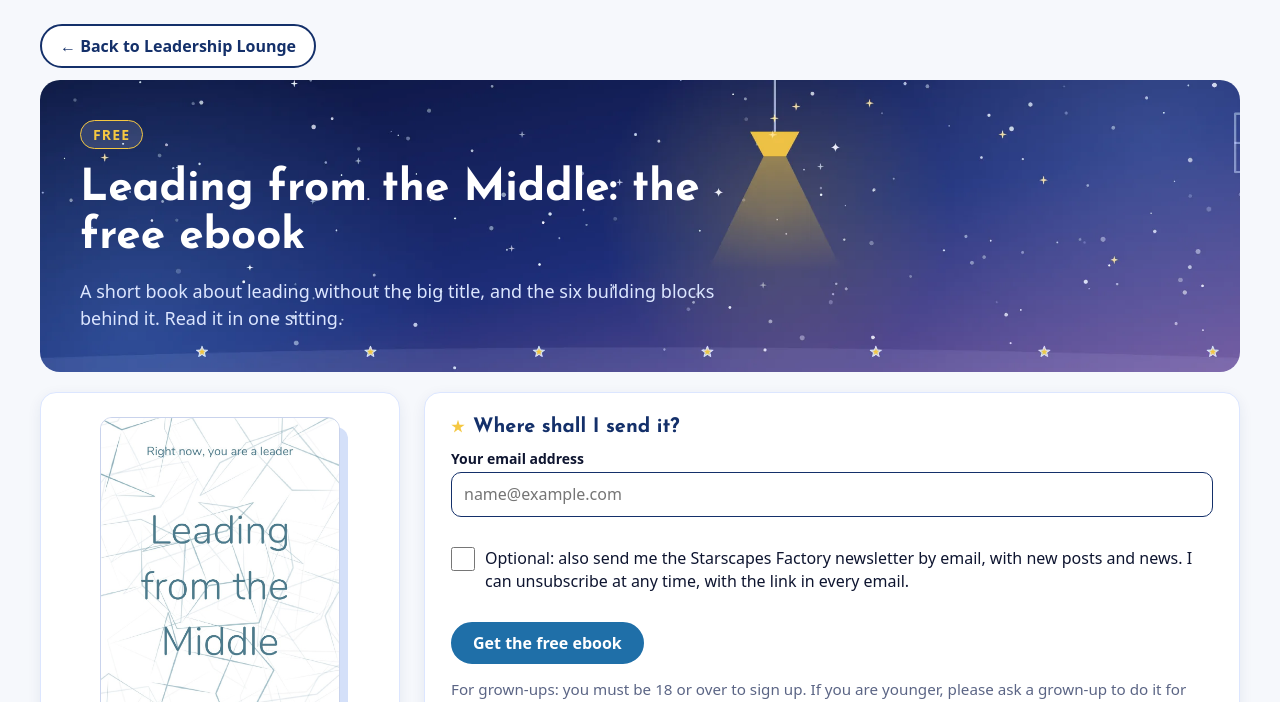
it: the page › does not send anything without a proper email, and says why in words with a link to the field; it never asks for a tick to get the ebook
Click the button "Get the free ebook": point(547, 643) x1=451 y1=622 x2=644 y2=664
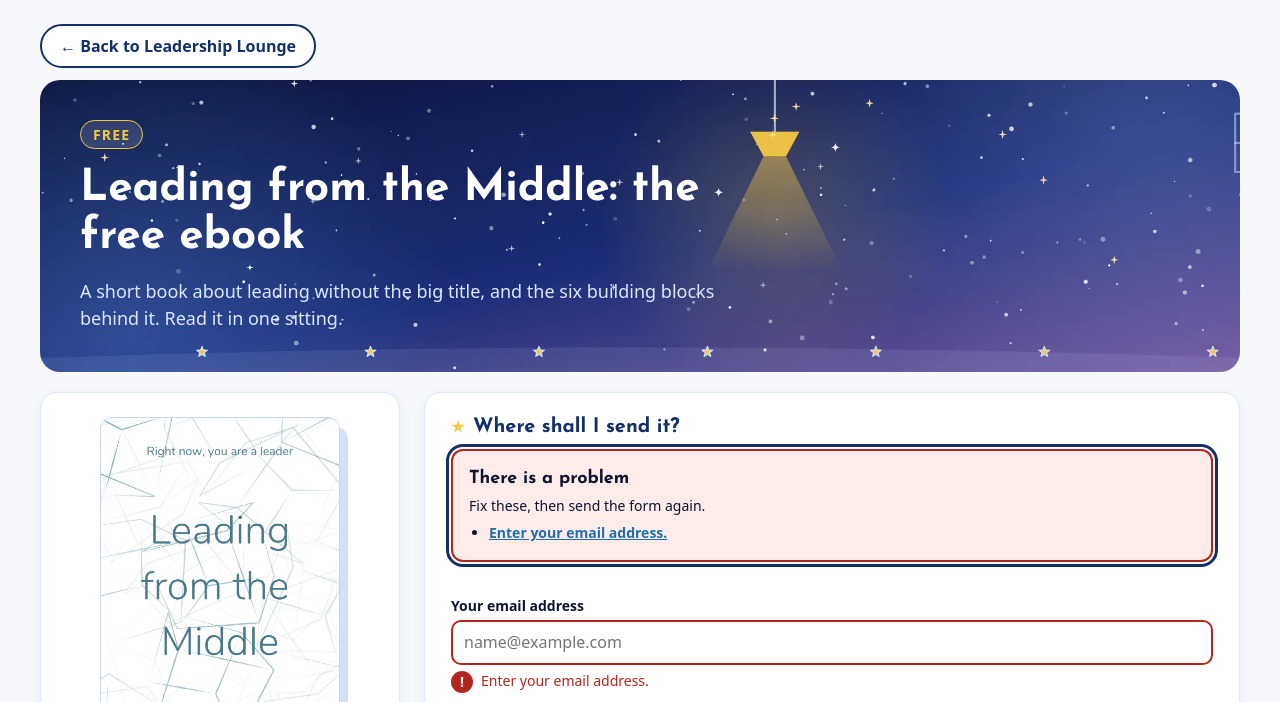
Check: the message does not show "Tick the box", box x1=451 y1=449 x2=1213 y2=562
Check: the message shows "Enter your email address.", box x1=489 y1=523 x2=667 y2=542
